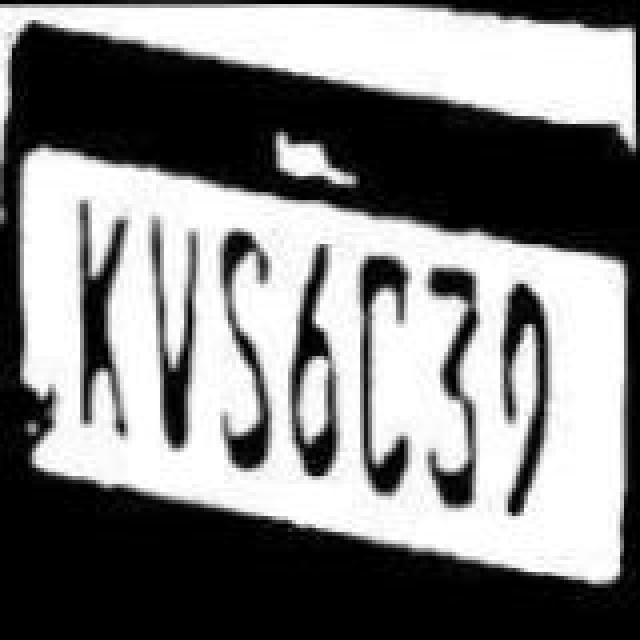3: (422, 262, 490, 530)
6: (284, 242, 352, 486)
9: (486, 270, 554, 518)
C: (346, 252, 418, 488)
K: (68, 198, 136, 438)
S: (208, 226, 284, 478)
V: (142, 198, 214, 450)
